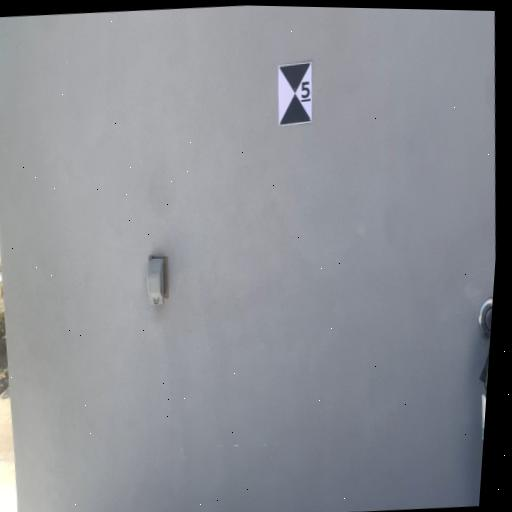target5: (278, 61, 313, 129)
